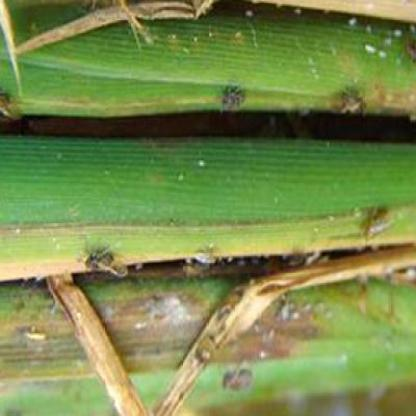brown-planthopper: (86, 249, 128, 277), (364, 205, 396, 239), (224, 367, 252, 393), (221, 86, 248, 110), (340, 93, 365, 111), (193, 253, 217, 268)
